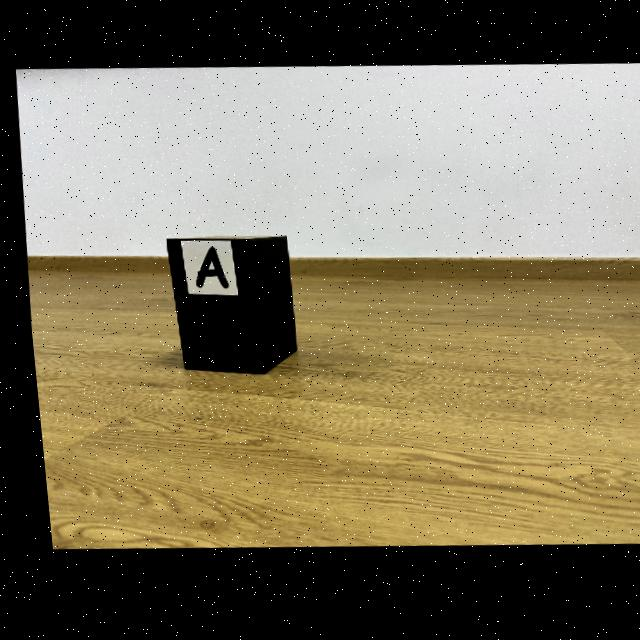A: (189, 248, 222, 290)
